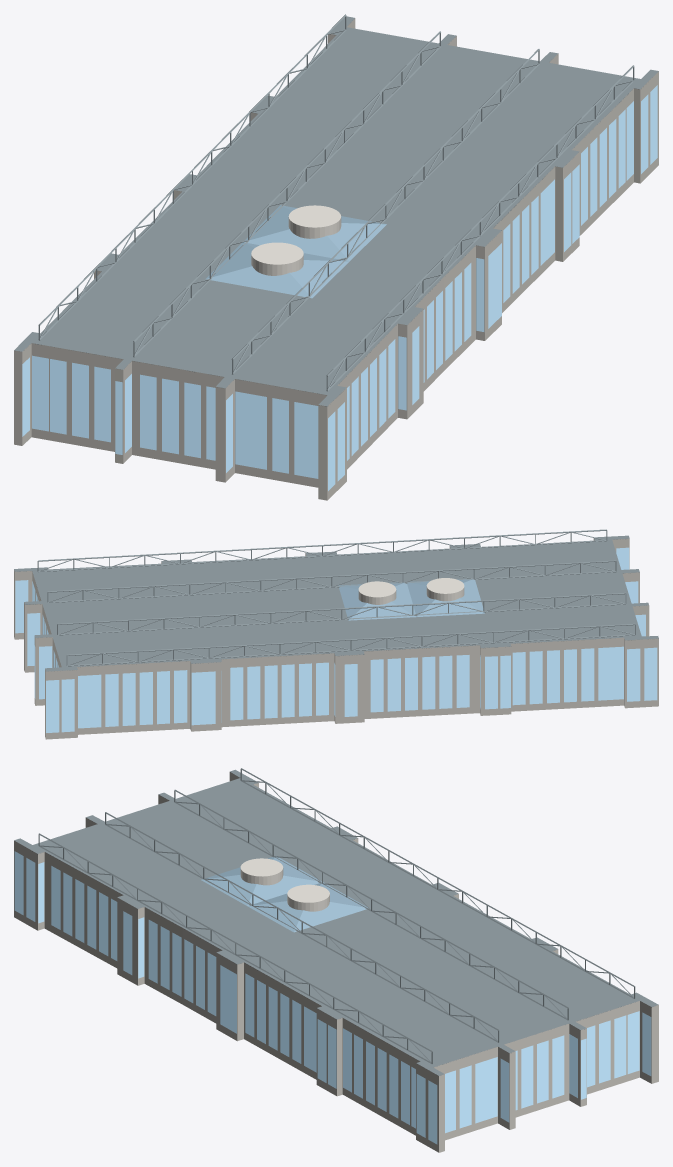
The model's file is detail.glb.
The picture shows the model from 3 angles, top to bottom: view 1: azimuth 30°, elevation 25°; view 2: azimuth 150°, elevation 25°; view 3: azimuth 270°, elevation 25°; orthographic projection. The views are drawn at different scales.
Parts seen in each view (by area): view 1: roof, window, stone, metal, trim; view 2: roof, window, stone, metal, trim; view 3: roof, window, stone, metal, trim.
Boxes of the visible parts, x1=… form: roof: x1=14, y1=14, x2=658, y2=406; window: x1=22, y1=85, x2=657, y2=490; stone: x1=14, y1=18, x2=658, y2=500; metal: x1=205, y1=205, x2=386, y2=298; trim: x1=251, y1=205, x2=341, y2=275; roof: x1=14, y1=529, x2=658, y2=671; window: x1=15, y1=547, x2=657, y2=732; stone: x1=14, y1=538, x2=658, y2=739; metal: x1=338, y1=579, x2=484, y2=620; trim: x1=358, y1=578, x2=464, y2=604; roof: x1=14, y1=768, x2=658, y2=1075; window: x1=14, y1=851, x2=651, y2=1144; stone: x1=14, y1=772, x2=658, y2=1152; metal: x1=201, y1=856, x2=368, y2=932; trim: x1=240, y1=858, x2=329, y2=911.
Size of the model in its own units: 291 by 40 by 259.
